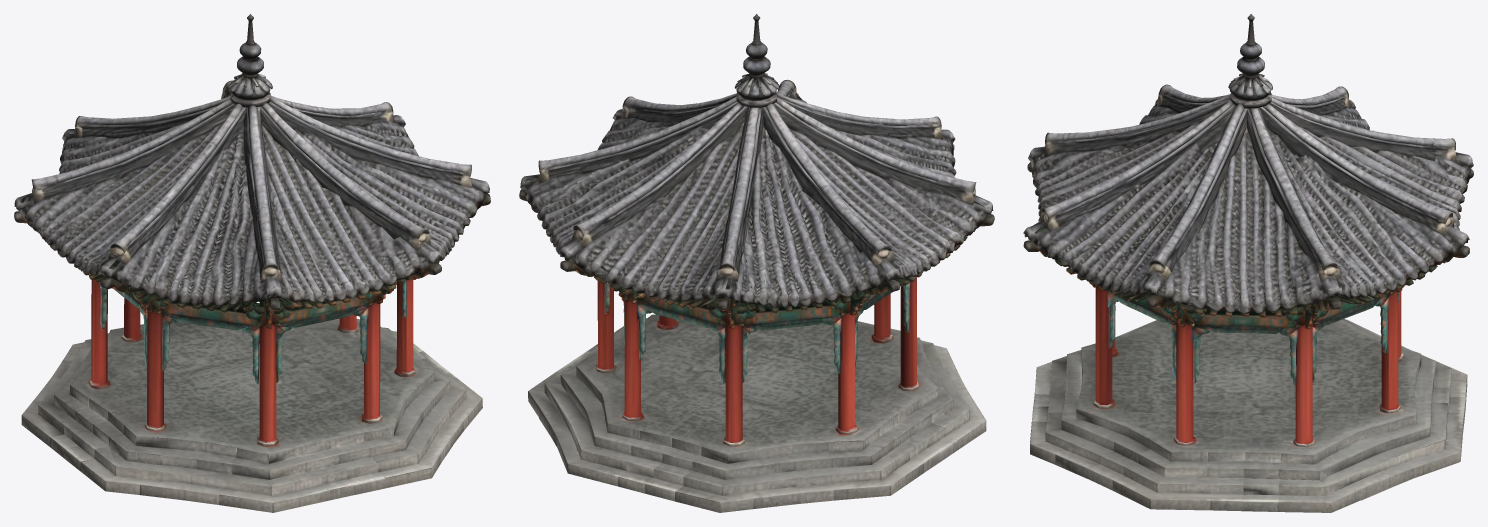
File: pagoda-92fd1028e8.glb
3 views of the same model, side by side, from view 1: azimuth 30°, elevation 25°; view 2: azimuth 150°, elevation 25°; view 3: azimuth 270°, elevation 25° (orthographic).
Parts seen in each view (by area): view 1: tripo_node_8489124a-82e8-4f24-b28b-88be51ab88dc; view 2: tripo_node_8489124a-82e8-4f24-b28b-88be51ab88dc; view 3: tripo_node_8489124a-82e8-4f24-b28b-88be51ab88dc.
Part boxes in pixels (x1=…): tripo_node_8489124a-82e8-4f24-b28b-88be51ab88dc: x1=14, y1=14, x2=490, y2=512; tripo_node_8489124a-82e8-4f24-b28b-88be51ab88dc: x1=519, y1=14, x2=994, y2=512; tripo_node_8489124a-82e8-4f24-b28b-88be51ab88dc: x1=1023, y1=14, x2=1473, y2=512.
Size of the model in its own units: 0.9995 by 0.9927 by 0.9985.
Materials: 1 (1 with a texture image).
